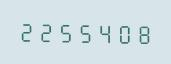eight: (131, 20, 149, 45)
five: (74, 19, 92, 44), (55, 19, 73, 43)
four: (93, 20, 111, 44)
two: (17, 18, 35, 43), (36, 19, 54, 43)
zero: (112, 20, 130, 44)
